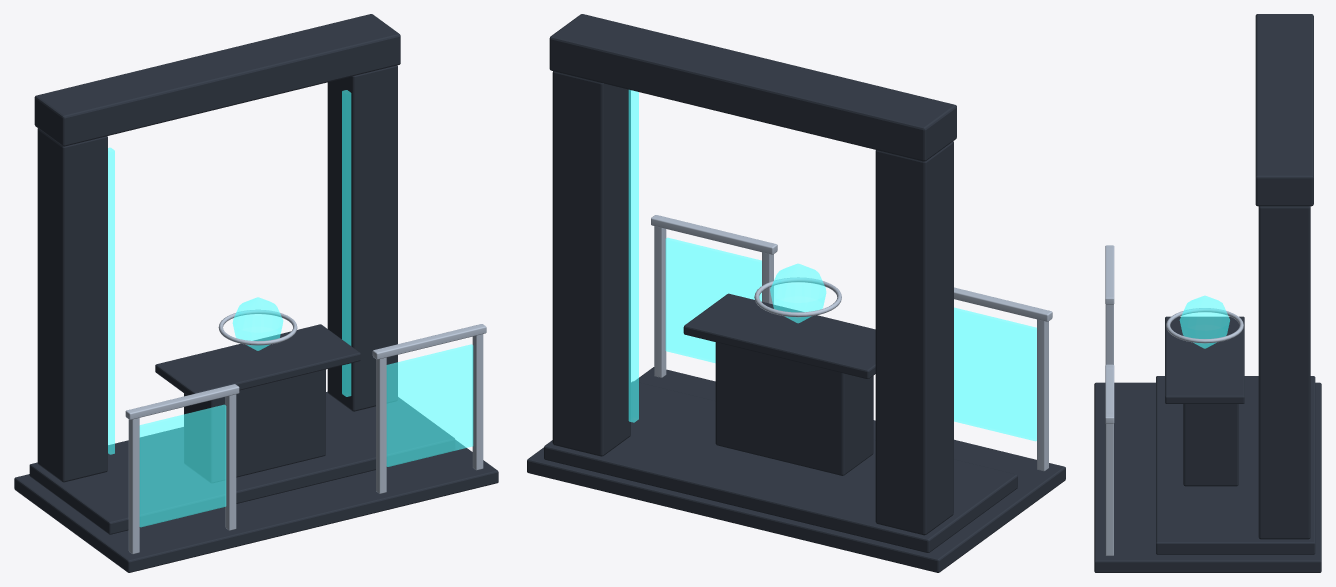
Rendered from webtoon-scifi-airlock-bridge-datum-bay-v19.glb.
3 views of the same model, side by side, from view 1: azimuth 30°, elevation 25°; view 2: azimuth 150°, elevation 25°; view 3: azimuth 270°, elevation 25° (orthographic). The views are drawn at different scales.
Visible parts, largest first — view 1: ScifiTitaniumAirlockBulkhead.001, ScifiDispersionHoloProjection.001, ScifiAlloyGuardrailAndGimbal.001; view 2: ScifiTitaniumAirlockBulkhead.001, ScifiDispersionHoloProjection.001, ScifiAlloyGuardrailAndGimbal.001; view 3: ScifiTitaniumAirlockBulkhead.001, ScifiAlloyGuardrailAndGimbal.001, ScifiDispersionHoloProjection.001.
Boxes of the visible parts, x1=… form: ScifiTitaniumAirlockBulkhead.001: x1=14, y1=14, x2=498, y2=572; ScifiDispersionHoloProjection.001: x1=108, y1=90, x2=473, y2=527; ScifiAlloyGuardrailAndGimbal.001: x1=125, y1=310, x2=486, y2=554; ScifiTitaniumAirlockBulkhead.001: x1=527, y1=14, x2=1065, y2=572; ScifiDispersionHoloProjection.001: x1=628, y1=90, x2=1036, y2=441; ScifiAlloyGuardrailAndGimbal.001: x1=651, y1=215, x2=1052, y2=471; ScifiTitaniumAirlockBulkhead.001: x1=1094, y1=14, x2=1321, y2=572; ScifiAlloyGuardrailAndGimbal.001: x1=1105, y1=245, x2=1243, y2=555; ScifiDispersionHoloProjection.001: x1=1179, y1=295, x2=1229, y2=348.
Bounding box in the file's own units: 2.76 × 2.8 × 1.48.
